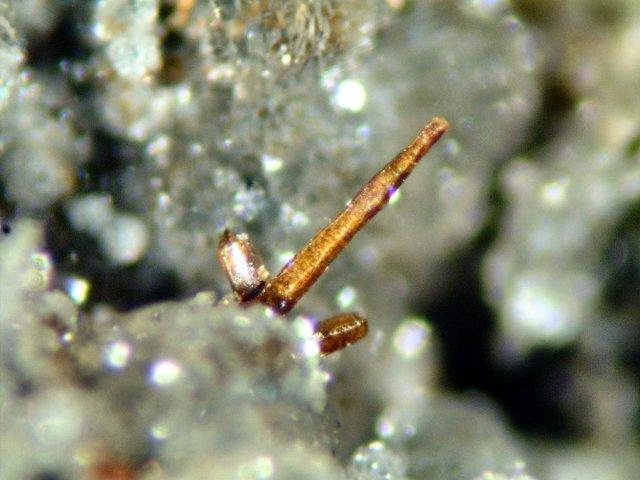pyrite: (216, 117, 449, 316), (314, 313, 367, 355)
